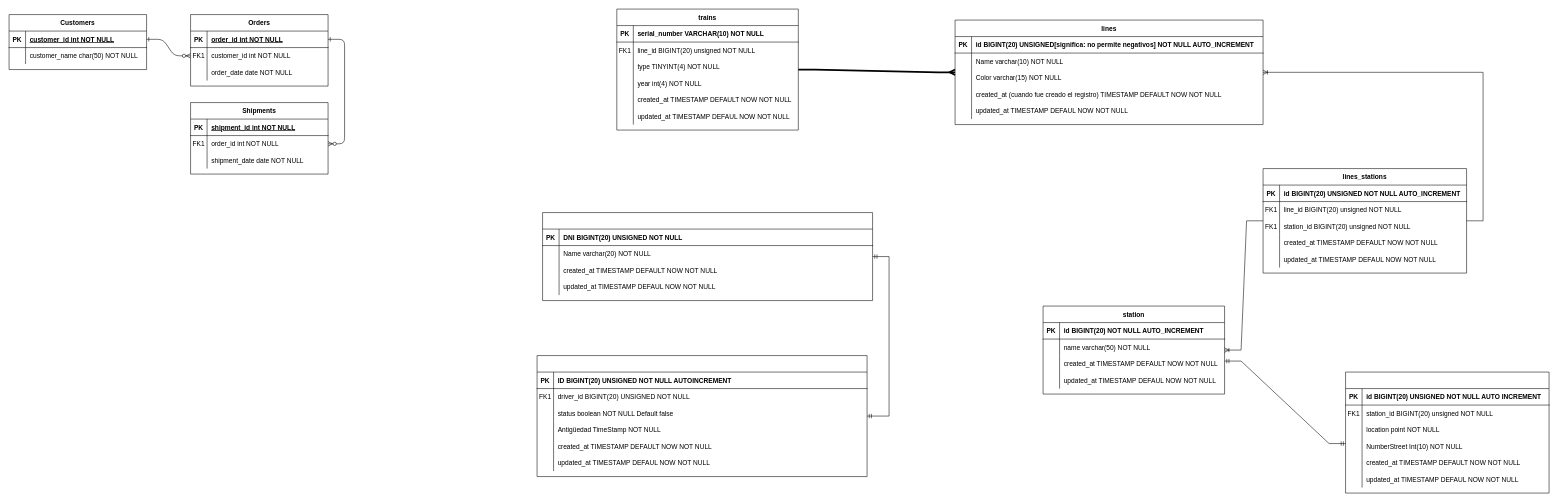
The diagram is 1558 pixels wide and 502 high, and some of its shapes have lost their labels. The shapes that lost their labels are listed below. From the top down, each one's box as (x1, y1, x2, y2) in pixels, then its label:
(542, 212, 873, 301): Drivers
(537, 355, 867, 477): Status Drivers
(1345, 372, 1549, 493): Locations
